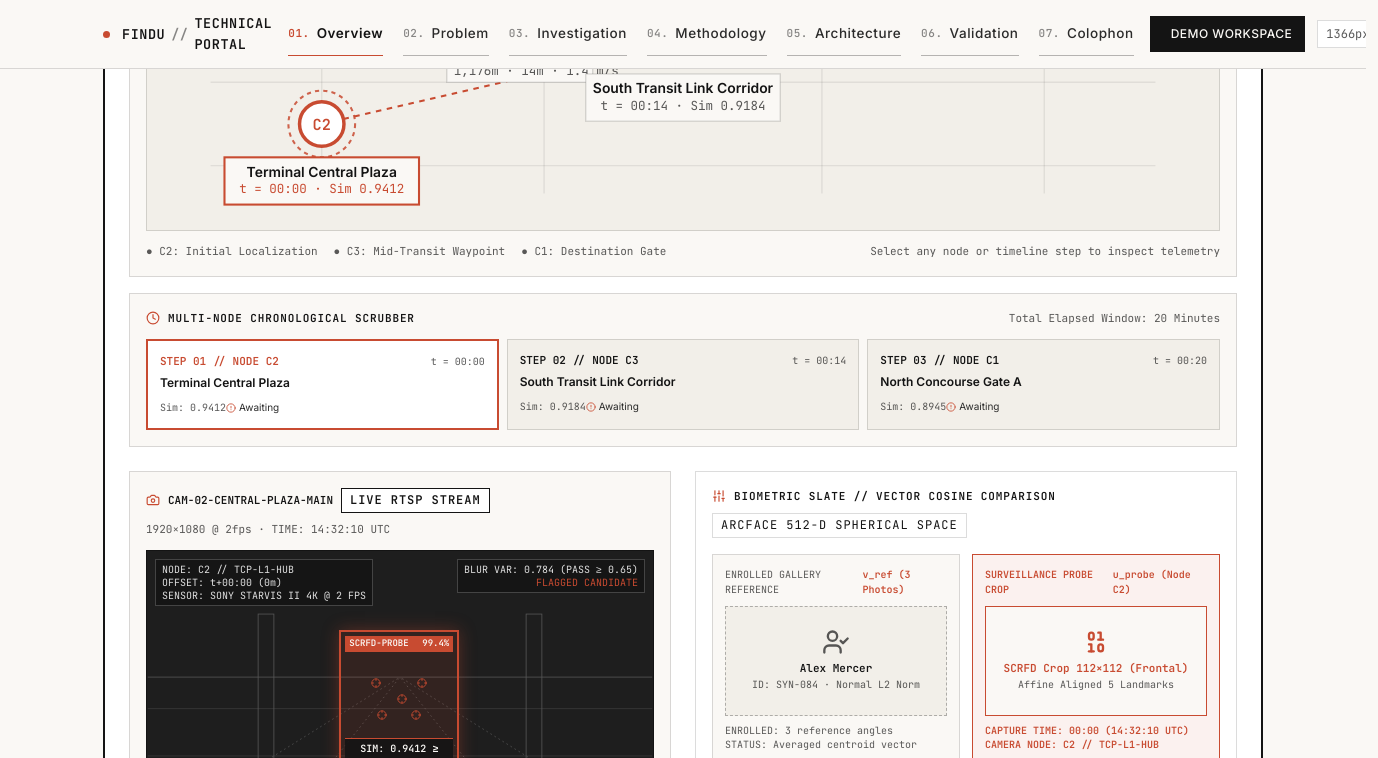
Scenario: Phase P5: Unified Interactive Investigation Demo Verification › synchronizes workspace when clicking Node C1 on the timeline scrubber
(page scrolled)
# Click timeline scrubber item for Node C1
What coordinates should you click on to do the following:
click the button "STEP 03 // NODE C1"
I would click on:
 (900, 360)
Its box is [867,339,1220,430].
(page scrolled)
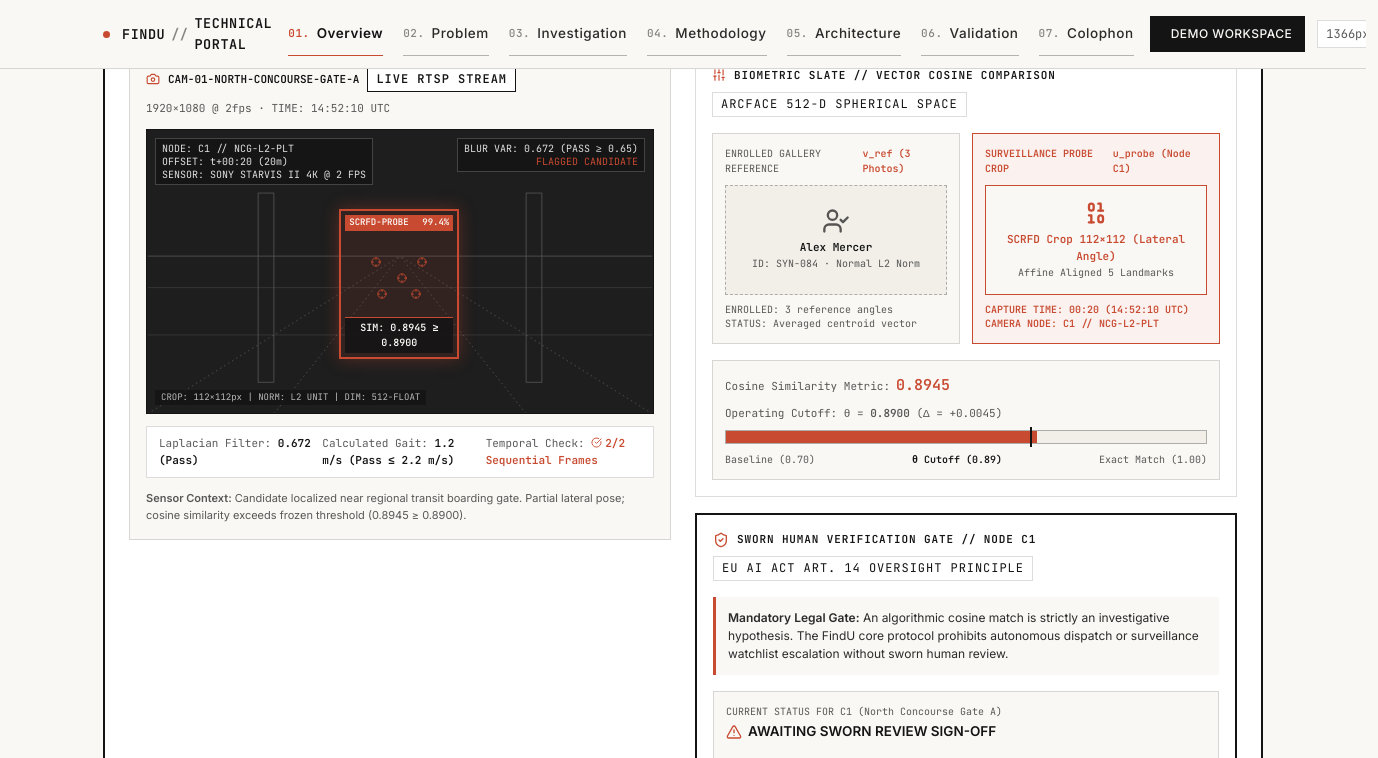
Check: the text "CAM-01-NORTH-CONCOURSE-GATE-A" is shown, box [168,71,359,88]
Check: the text "0.8945" is shown, box [896,374,950,394]
